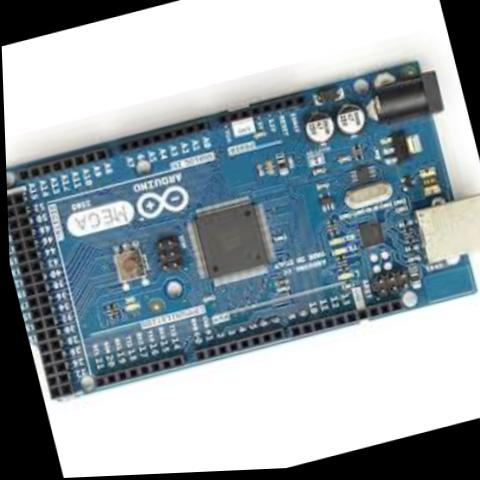Arduino-Mega: (2, 42, 480, 416)
